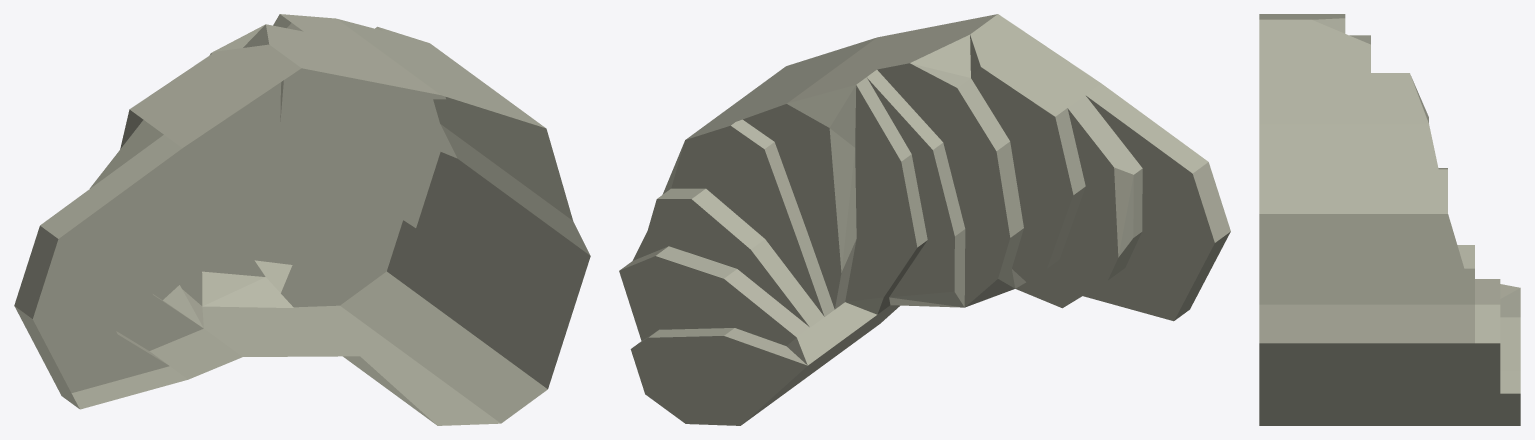
Rendered from Stairs 06.FBX.
The picture shows the model from 3 angles, left to right: view 1: azimuth 30°, elevation 25°; view 2: azimuth 150°, elevation 25°; view 3: azimuth 270°, elevation 25°; orthographic projection. The views are drawn at different scales.
Parts seen in each view (by area): view 1: Stairs 06; view 2: Stairs 06; view 3: Stairs 06.
Boxes of the visible parts, x1,y1,x2,y2 form: Stairs 06: [14, 14, 590, 425]; Stairs 06: [619, 14, 1230, 425]; Stairs 06: [1259, 14, 1520, 425].
Bounding box in the file's own units: 413 × 286 × 207.
